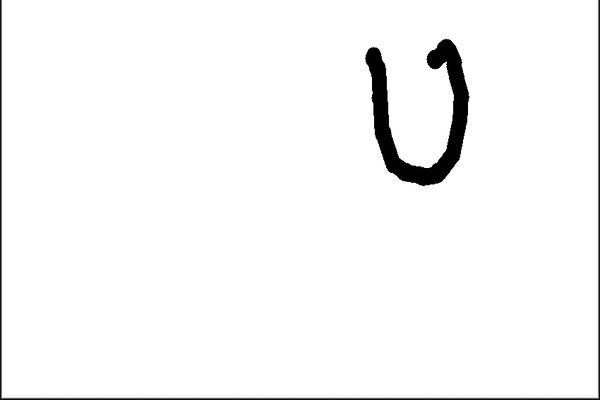U: (352, 37, 469, 188)
